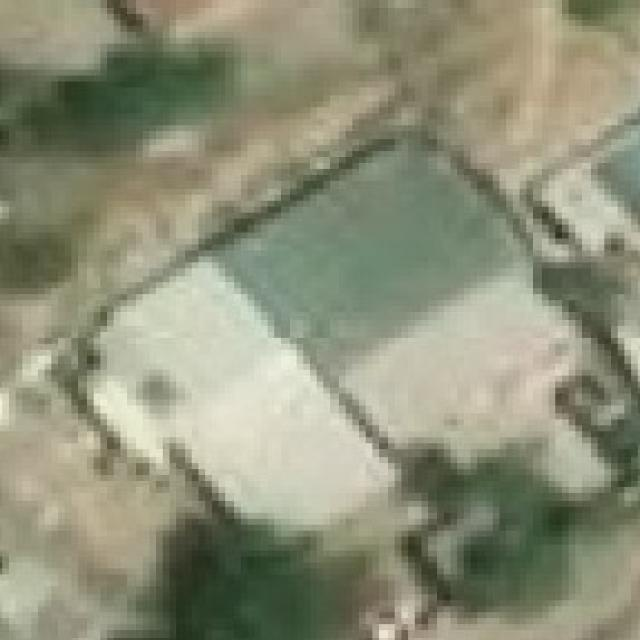Batiment: (94, 146, 610, 524)
